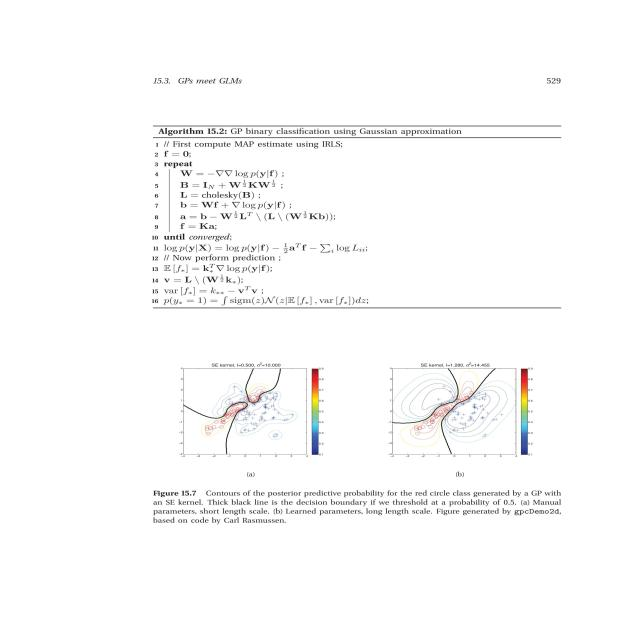diagram: (108, 319, 593, 545)
